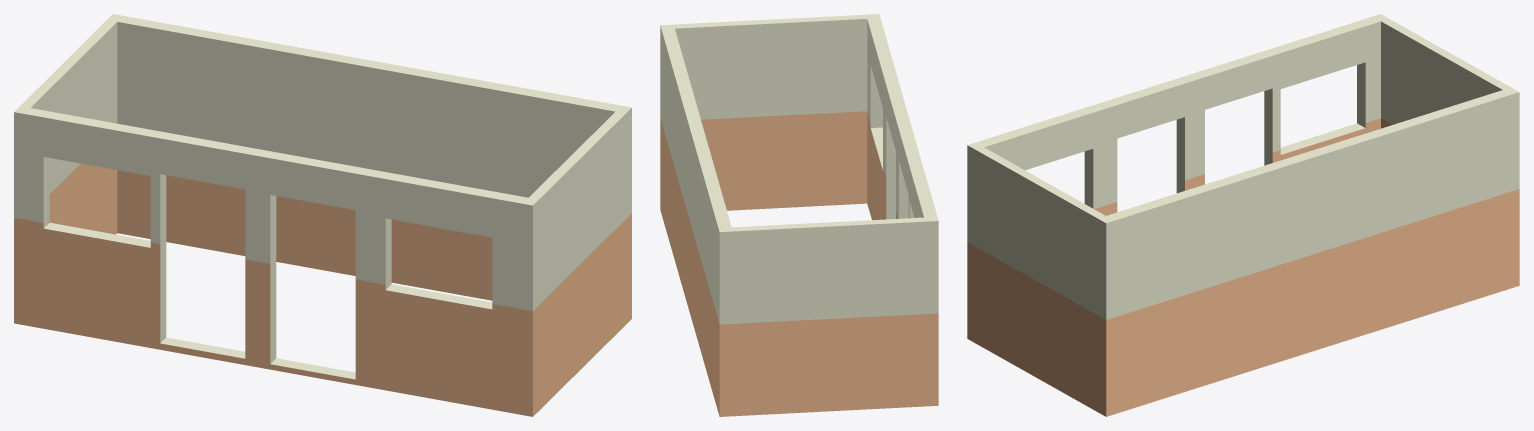
Rendered from paredDo.glb.
3 renders of one model, left to right at view 1: azimuth 30°, elevation 25°; view 2: azimuth 150°, elevation 25°; view 3: azimuth 270°, elevation 25°, orthographic. The views are drawn at different scales.
Parts seen in each view (by area): view 1: Room.094; view 2: Room.094; view 3: Room.094.
Boxes of the visible parts, x1=… form: Room.094: x1=14, y1=14, x2=631, y2=416; Room.094: x1=660, y1=14, x2=938, y2=416; Room.094: x1=967, y1=14, x2=1519, y2=416.
Bounding box in the file's own units: 112 × 48.3 × 125.
